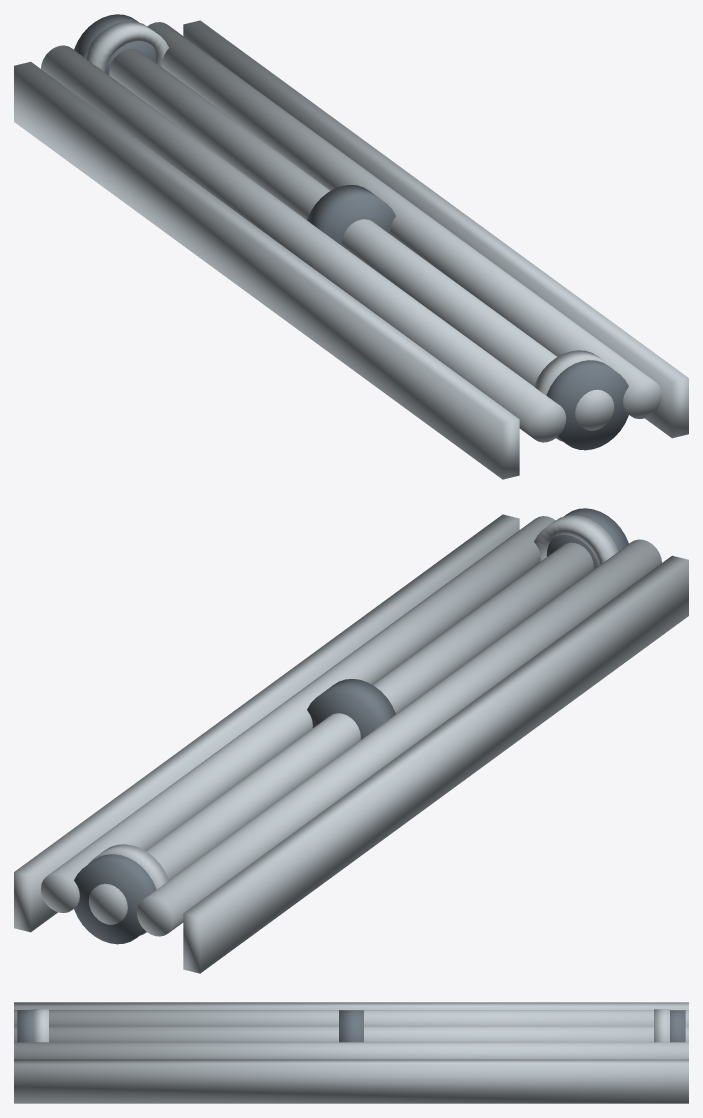
The model's file is cable_tray_ultra.glb.
The picture shows the model from 3 angles, top to bottom: view 1: azimuth 30°, elevation 25°; view 2: azimuth 150°, elevation 25°; view 3: azimuth 270°, elevation 25°; orthographic projection. The views are drawn at different scales.
Visible parts, largest first — view 1: Conduit_steel, Tray_steel, Coupler_dark, Flange_steel; view 2: Conduit_steel, Tray_steel, Coupler_dark, Flange_steel; view 3: Tray_steel, Conduit_steel, Coupler_dark, Flange_steel.
Part boxes in pixels (<box>): Conduit_steel: <box>41,22,661,442</box>; Tray_steel: <box>14,20,688,479</box>; Coupler_dark: <box>74,14,628,450</box>; Flange_steel: <box>84,21,614,441</box>; Conduit_steel: <box>41,516,661,936</box>; Tray_steel: <box>14,514,688,973</box>; Coupler_dark: <box>74,508,628,944</box>; Flange_steel: <box>88,515,618,935</box>; Tray_steel: <box>14,1002,688,1103</box>; Conduit_steel: <box>14,1010,688,1059</box>; Coupler_dark: <box>17,1010,685,1042</box>; Flange_steel: <box>33,1009,669,1042</box>.
Bounding box in the file's own units: 0.66 × 0.295 × 3.
